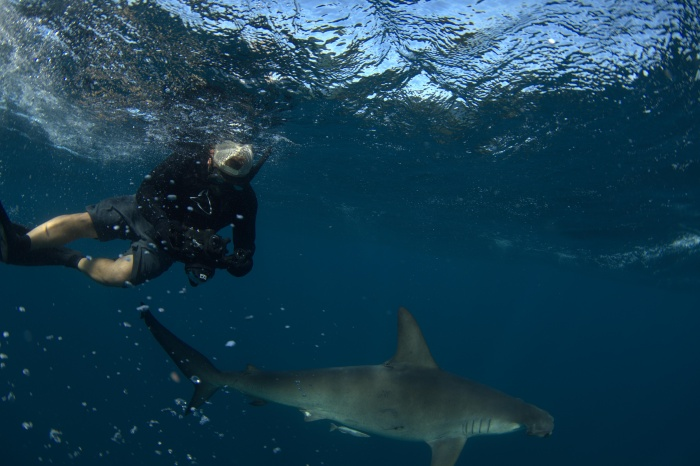Hammer: (115, 276, 589, 466)
